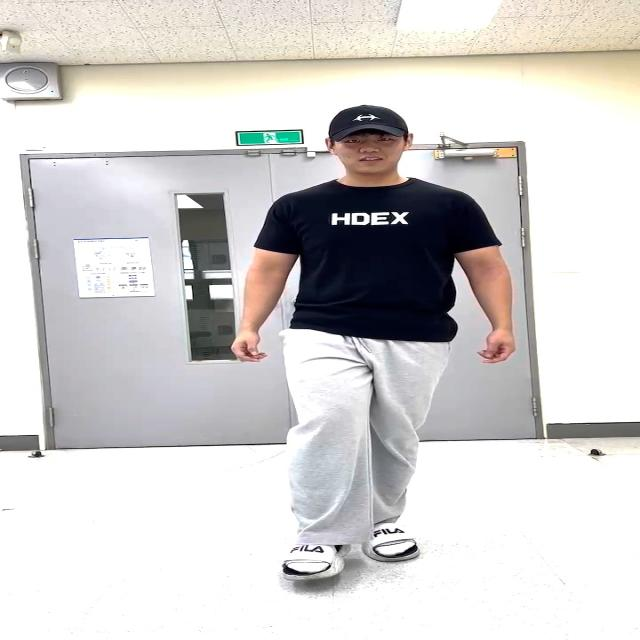leg: (276, 337, 364, 579)
